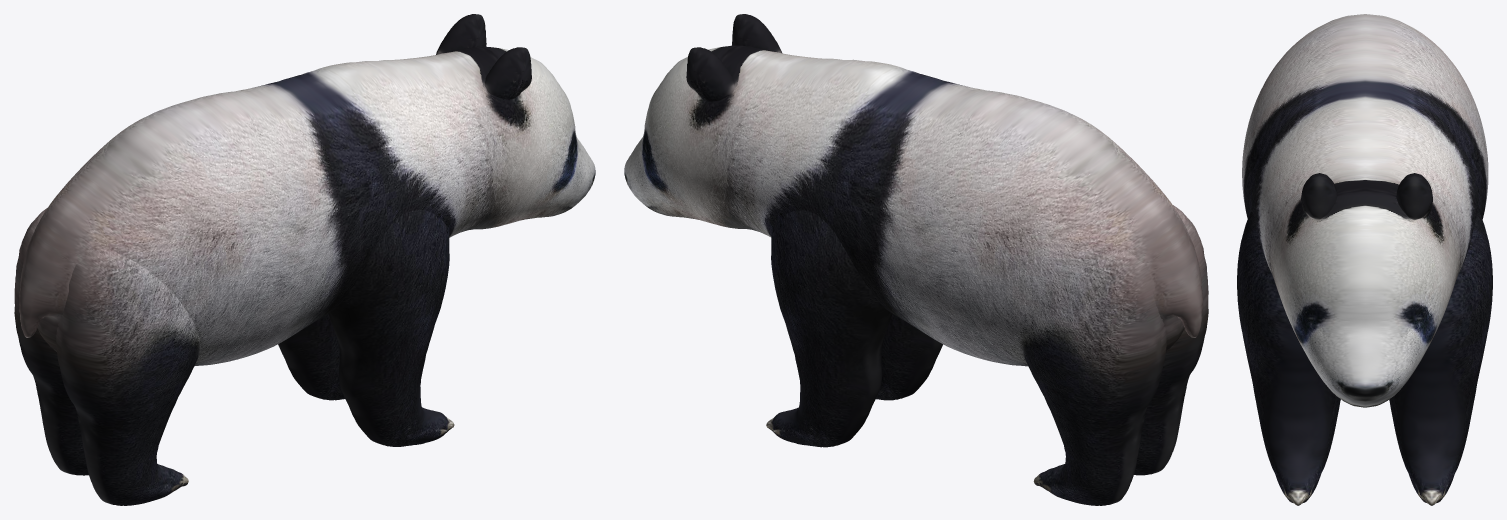
Rendered from giant-panda.glb.
3 renders of one model, left to right at view 1: azimuth 30°, elevation 25°; view 2: azimuth 150°, elevation 25°; view 3: azimuth 270°, elevation 25°, orthographic. The views are drawn at different scales.
Parts seen in each view (by area): view 1: mm_frame (38); view 2: mm_frame (38); view 3: mm_frame (38).
Boxes of the visible parts, x1=… form: mm_frame (38): x1=14, y1=14, x2=595, y2=505; mm_frame (38): x1=624, y1=14, x2=1208, y2=505; mm_frame (38): x1=1237, y1=14, x2=1492, y2=505.
Bounding box in the file's own units: 8.86 × 5.36 × 3.28.
Materials: 1 (1 with a texture image).
